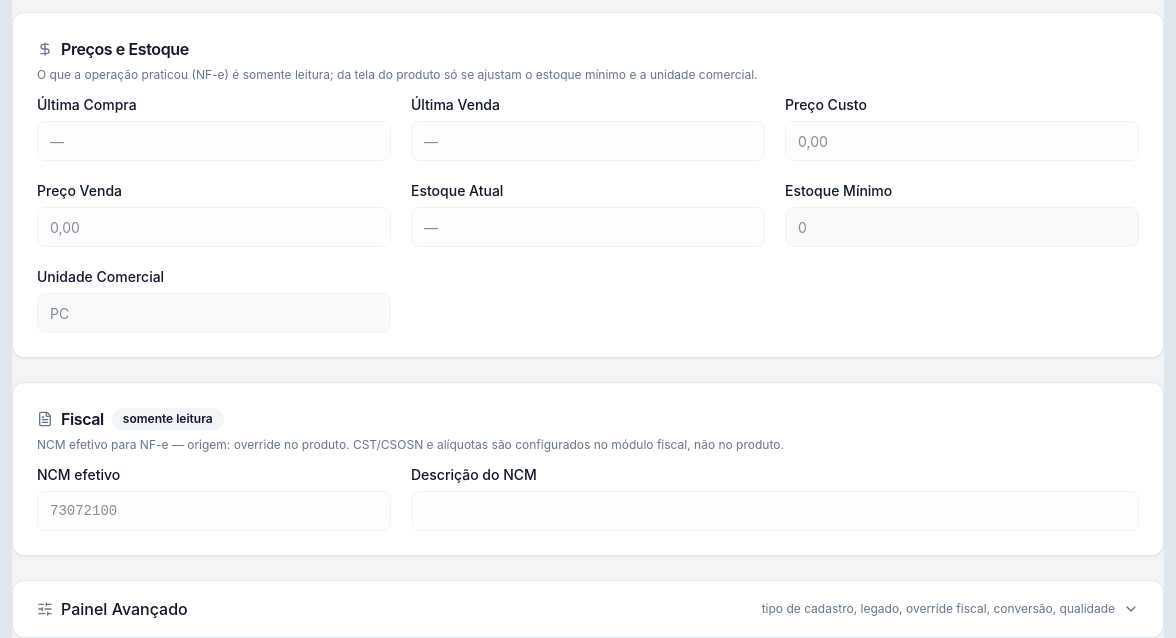
Test: ProdutoWorkspace (espelho da Edição — Sprint 3.7) › exibe a observação de conversão uma única vez, dentro de Conversão de Medidas
(page scrolled)
Click the button "Painel Avançado".
click(124, 609)  # box left=13, top=581, right=1163, bottom=637
(page scrolled)
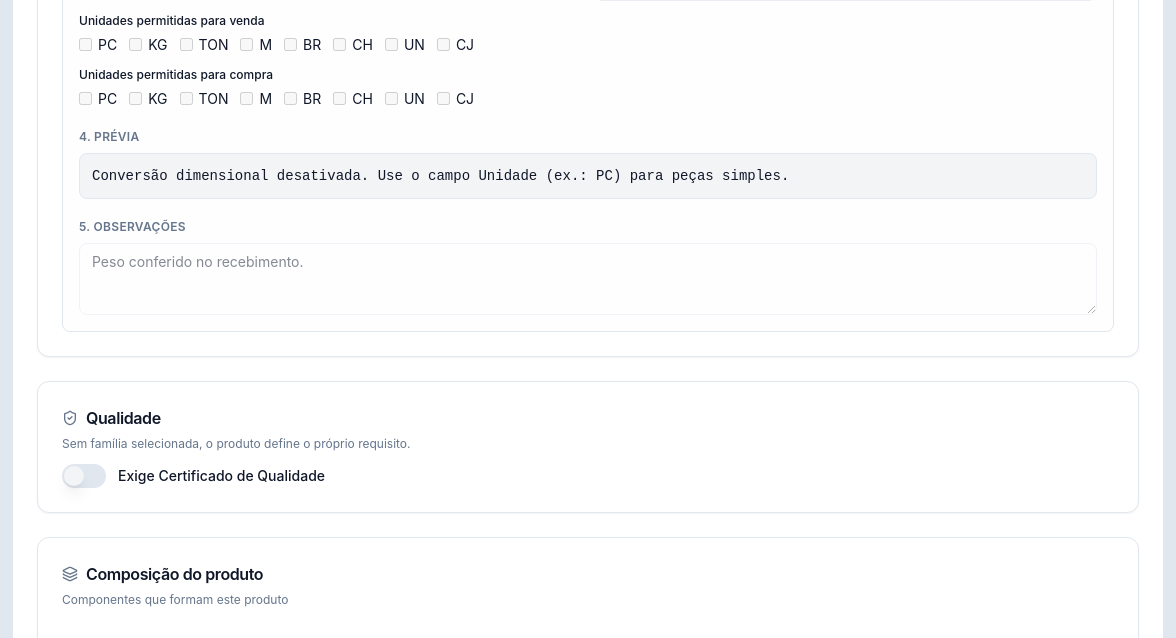
Result: the text "5. Observações" is shown at left=79, top=218, right=186, bottom=234
Result: the text box showing "Peso conferido no recebimento." is disabled at left=79, top=242, right=1097, bottom=314
Result: the number of text boxes showing "Peso conferido no recebimento." is 1 at left=79, top=242, right=1097, bottom=314
